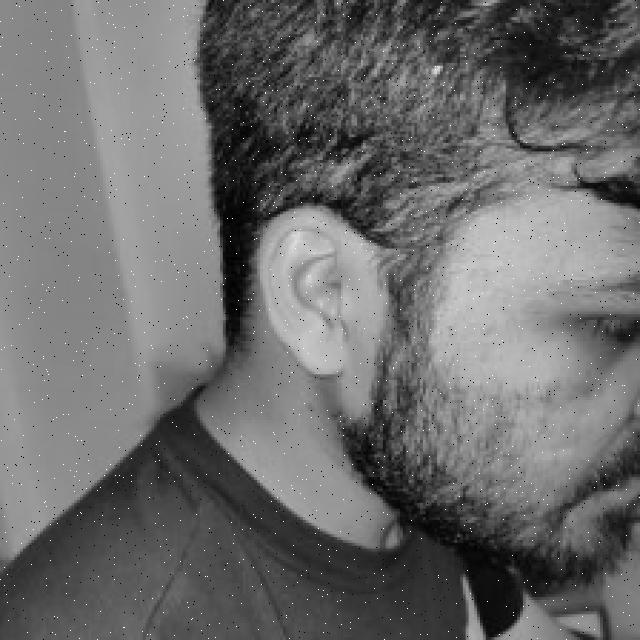ear: (251, 206, 371, 371)
